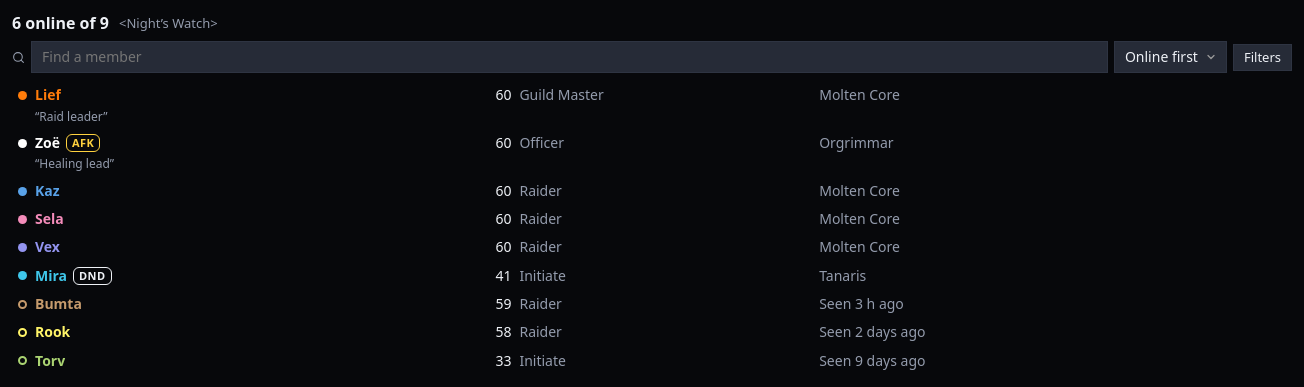
Test: Guild roster › searches, and says how many are shown
This screenshot has width=1304, height=387.
Expected: the text "6 online of 9" is shown, [12,12,109,35]
Type "zoe" into the search field labelled "Find a member" at (569, 57), box [31,41,1108,74]
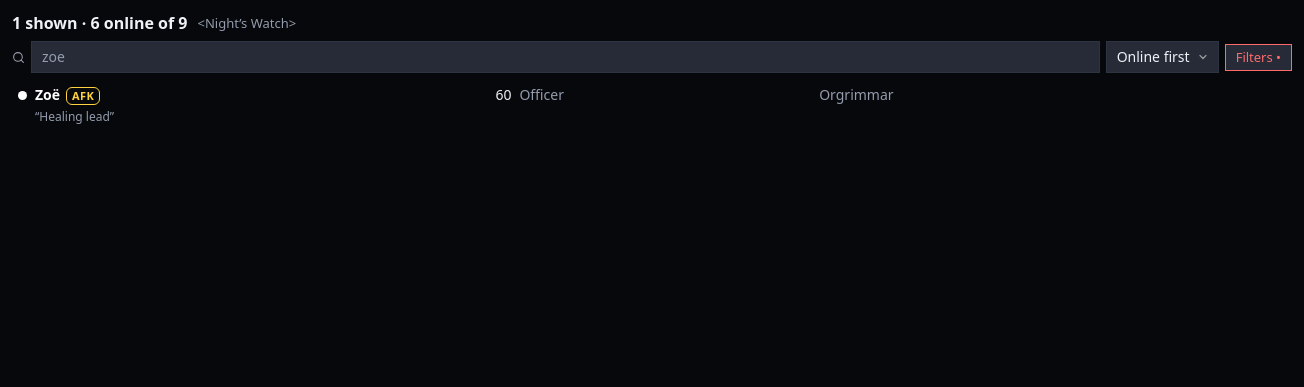
Result: the text "1 shown · 6 online of 9" is shown at [12,12,188,35]
Result: the button "Lief" is gone
Replace the text in the search field named "Find a member" with "nobody" at (565, 57), box [31,41,1100,74]
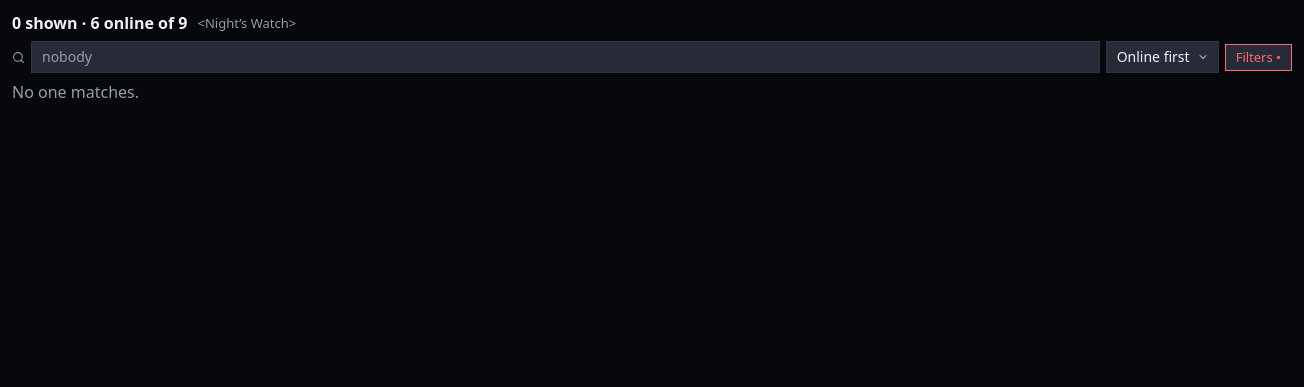
Result: the text "No one matches." is shown at [12,82,139,104]
